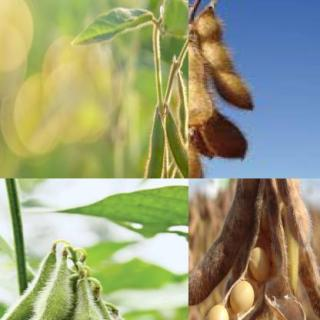soya: (188, 178, 260, 307), (197, 12, 256, 110), (6, 262, 73, 320), (0, 252, 58, 319), (267, 178, 310, 244), (188, 43, 214, 125), (134, 120, 165, 178), (166, 110, 188, 178), (299, 247, 319, 319), (73, 282, 107, 320), (178, 72, 188, 140)
